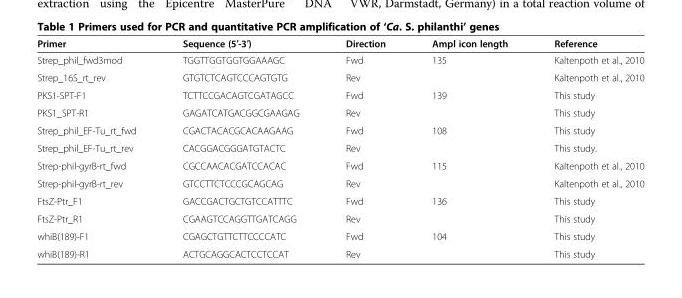table: (36, 37, 643, 259)
table column: (158, 37, 321, 259), (36, 37, 158, 259), (408, 37, 530, 259), (530, 37, 643, 259), (321, 37, 408, 259)
table column header: (36, 37, 643, 51)
table row: (36, 68, 643, 86), (36, 103, 643, 121), (36, 138, 643, 156), (36, 156, 643, 174), (36, 191, 643, 209), (36, 209, 643, 227), (36, 51, 643, 68), (36, 86, 643, 103), (36, 121, 643, 138), (36, 174, 643, 191), (36, 227, 643, 244), (36, 244, 643, 259), (36, 37, 643, 51)
